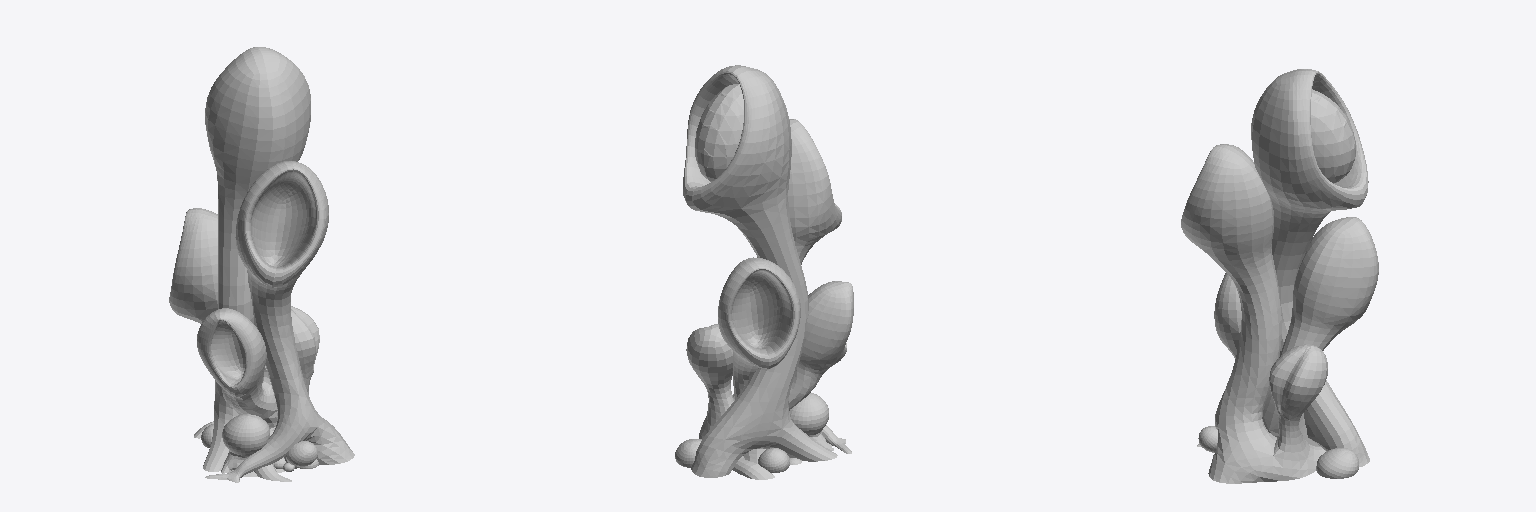
Rendered from tree8.obj.
3 renders of one model, left to right at view 1: azimuth 30°, elevation 25°; view 2: azimuth 150°, elevation 25°; view 3: azimuth 270°, elevation 25°, orthographic.
Visible parts, largest first — view 1: AlienPlant01.003; view 2: AlienPlant01.003, Mball.002; view 3: AlienPlant01.003, Mball.002.
Part boxes in pixels (left/top/right/bottom): AlienPlant01.003: left=169, top=47, right=354, bottom=482; AlienPlant01.003: left=675, top=65, right=853, bottom=479; Mball.002: left=695, top=84, right=743, bottom=181; AlienPlant01.003: left=1181, top=69, right=1378, bottom=483; Mball.002: left=1311, top=89, right=1355, bottom=183.
Bounding box in the file's own units: 9.26 × 24.25 × 11.25.